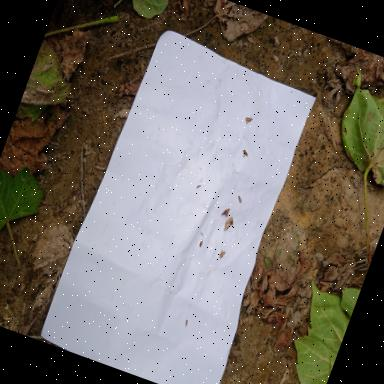pbw: (239, 147, 251, 159), (243, 114, 254, 126), (218, 248, 227, 260), (236, 196, 244, 204), (222, 210, 230, 218), (224, 222, 231, 230), (199, 240, 204, 248)
